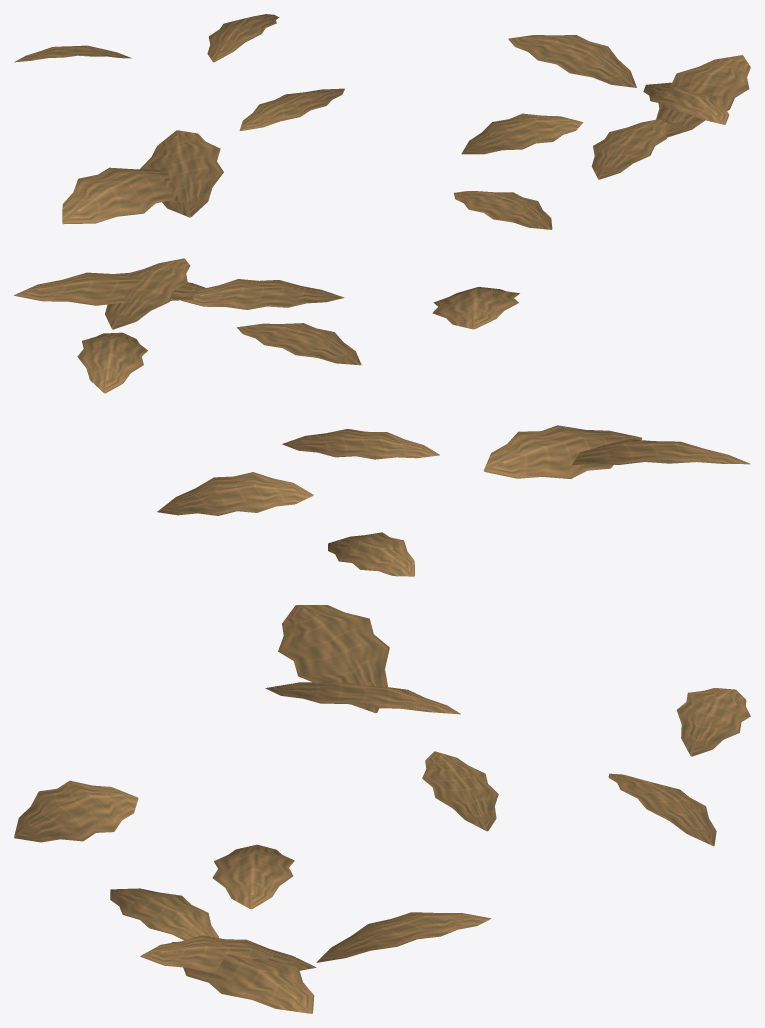
The model's file is BeechLitter_A.fbx.
3 renders of one model, top to bottom at view 1: azimuth 30°, elevation 25°; view 2: azimuth 150°, elevation 25°; view 3: azimuth 270°, elevation 25°, orthographic. The views are drawn at different scales.
Visible parts, largest first — view 1: BeechLitter_A_LOD0; view 2: BeechLitter_A_LOD0; view 3: BeechLitter_A_LOD0.
Part boxes in pixels (x1,y1,x2,y2): BeechLitter_A_LOD0: (14,14,750,229); BeechLitter_A_LOD0: (14,258,750,576); BeechLitter_A_LOD0: (14,605,750,1013).
Size of what is drawn, in the model's own units: 40.49 by 1.44 by 31.22.
1 material, 1 textured.
